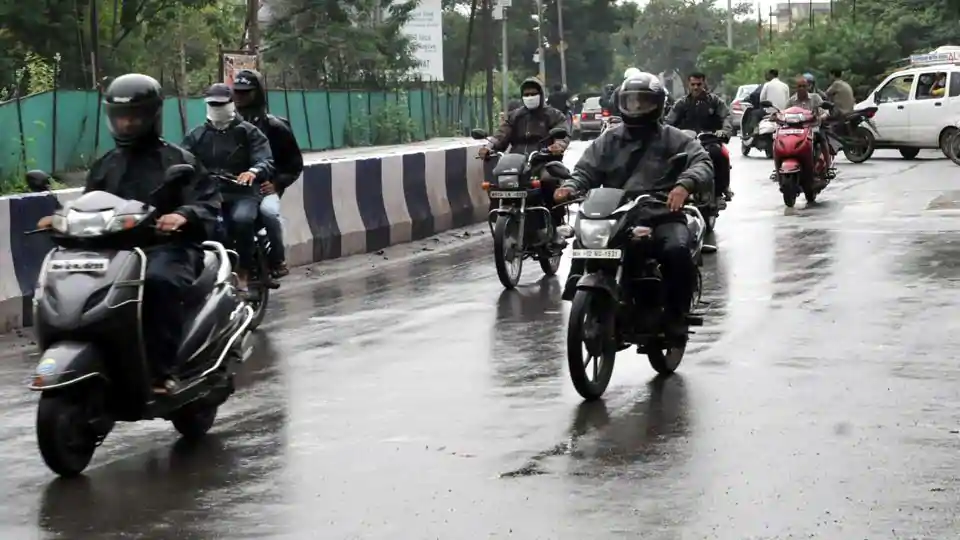helmet: (101, 71, 163, 149), (617, 73, 666, 129)
